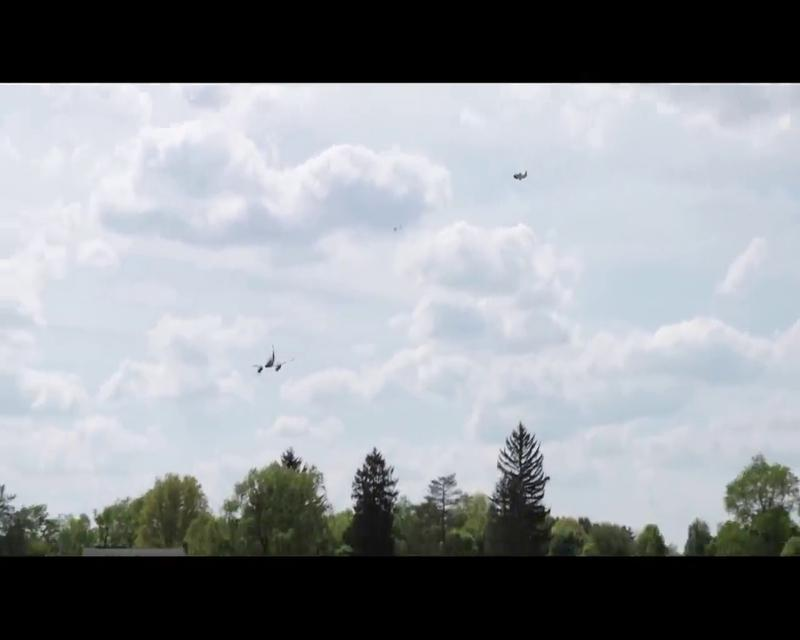UAV: (251, 344, 294, 374), (512, 166, 530, 186)
